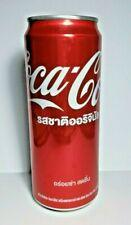metal: (26, 17, 101, 210)
